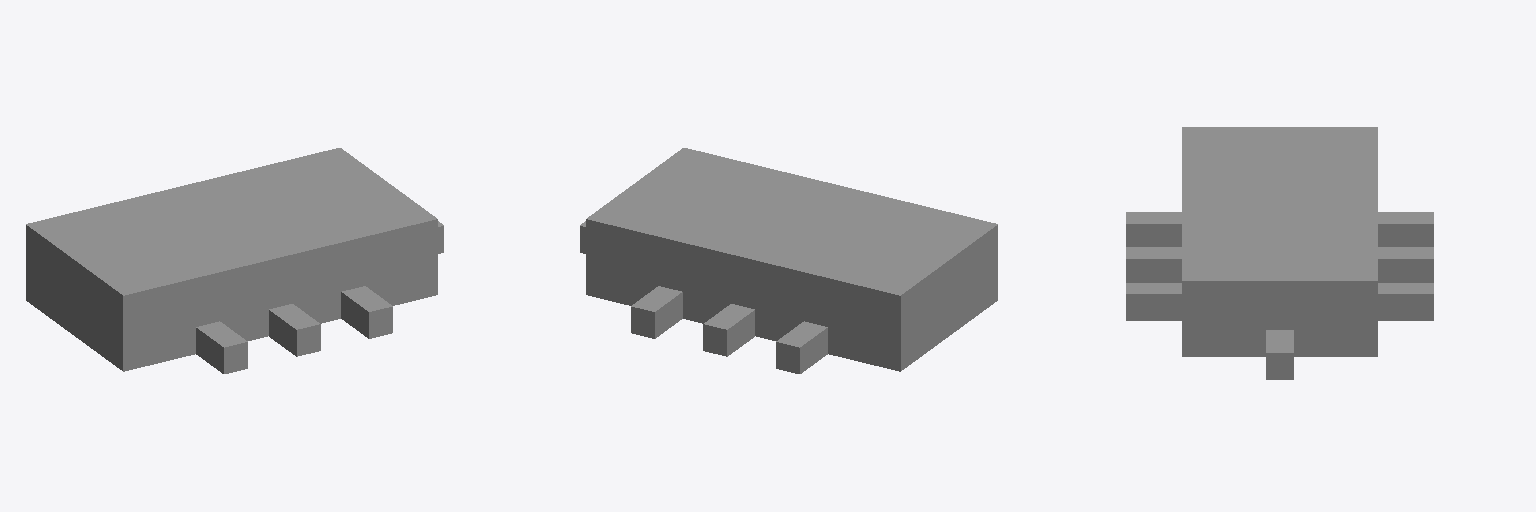
3 renders of one model, left to right at view 1: azimuth 30°, elevation 25°; view 2: azimuth 150°, elevation 25°; view 3: azimuth 270°, elevation 25°, orthographic.
Parts seen in each view (by area): view 1: Plane_Plane_None_35.png; view 2: Plane_Plane_None_35.png; view 3: Plane_Plane_None_35.png.
Part boxes in pixels (left/top/right/bottom): Plane_Plane_None_35.png: left=26, top=148, right=443, bottom=373; Plane_Plane_None_35.png: left=580, top=148, right=997, bottom=373; Plane_Plane_None_35.png: left=1126, top=127, right=1433, bottom=379.
Bounding box in the file's own units: 0.15 × 0.0318 × 0.11.